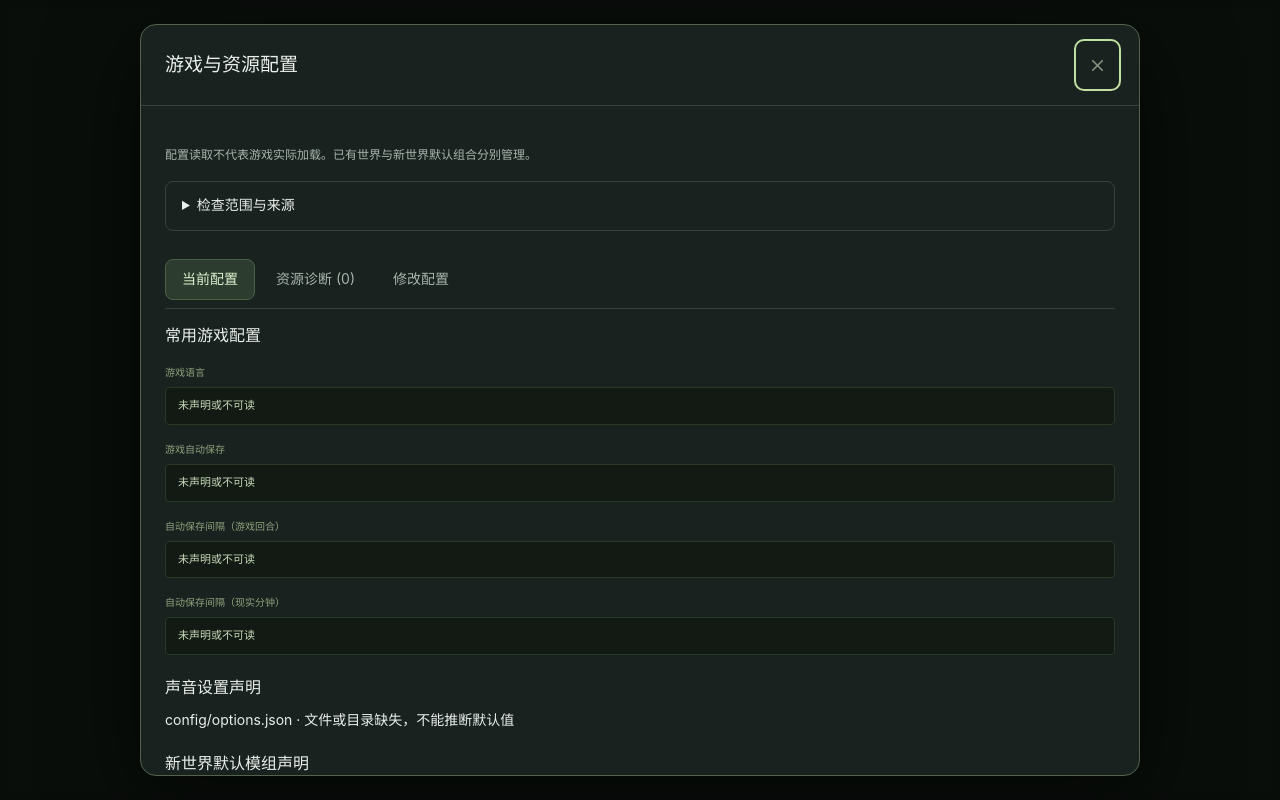
Test case: distinguishes missing and broken files from explicit empty configuration and catalog absence
Expected: the text "config/options.json · 文件或目录缺失，不能推断默认值" is shown, [165,711,514,728]
Click the tab "资源诊断 (0)" at (316, 280), box [259,259,372,300]
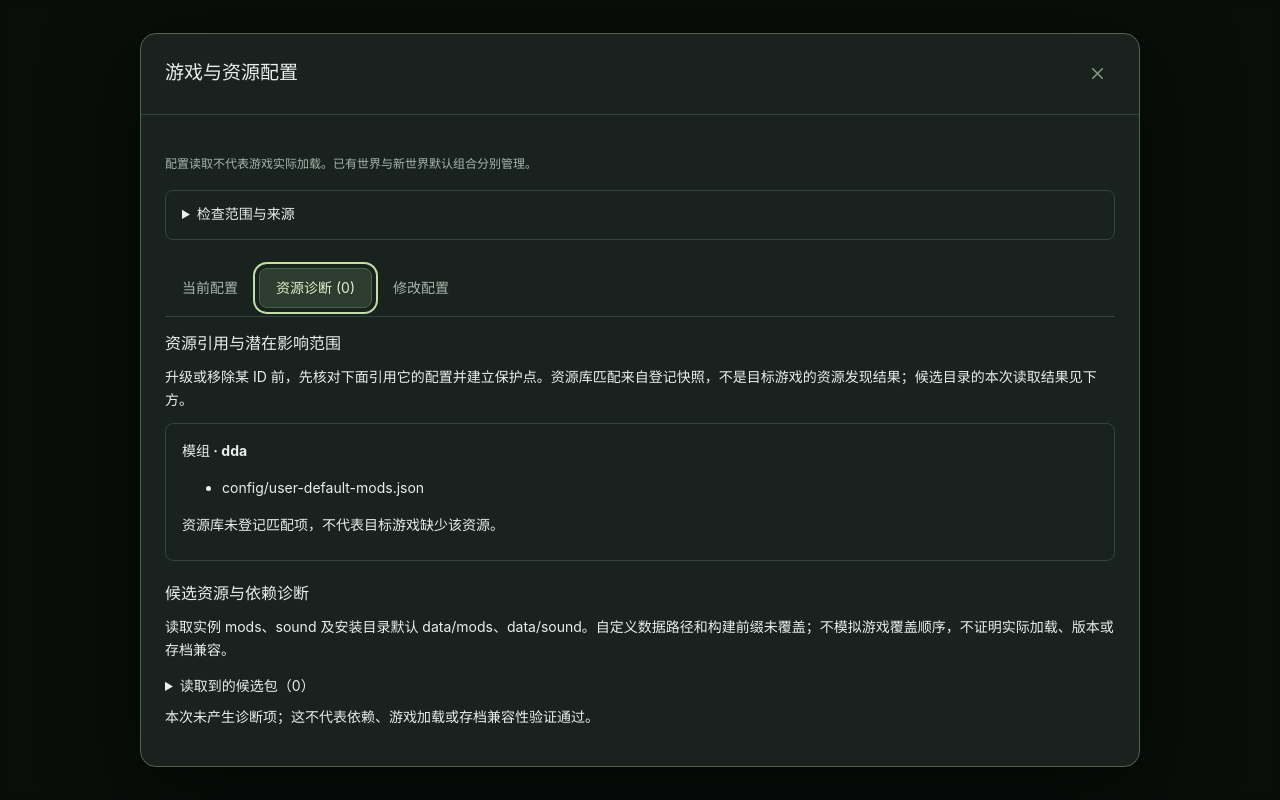
Expected: the text "资源库未登记匹配项，不代表目标游戏缺少该资源。" is shown, [182,516,504,533]
